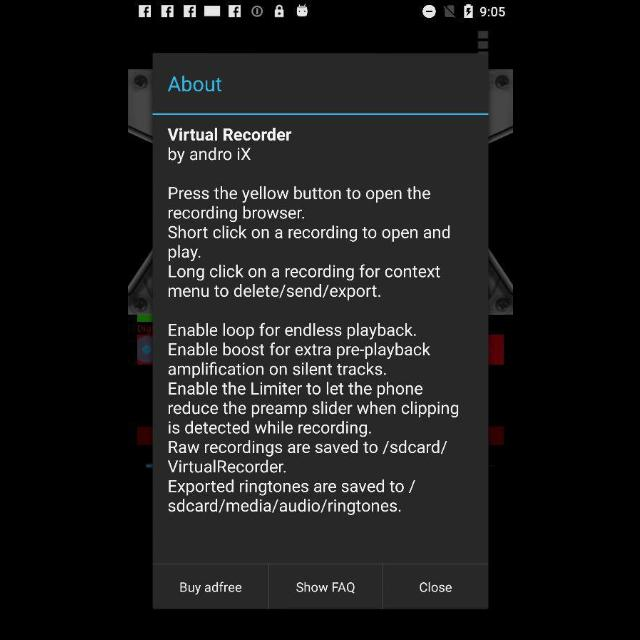panel: (153, 54, 487, 608)
text: (168, 323, 458, 517), (167, 186, 449, 302), (166, 128, 292, 164), (167, 76, 221, 92)
textbutton: (152, 564, 268, 608), (268, 564, 382, 608), (382, 564, 488, 608)
uppertaskbar: (128, 1, 512, 19)
